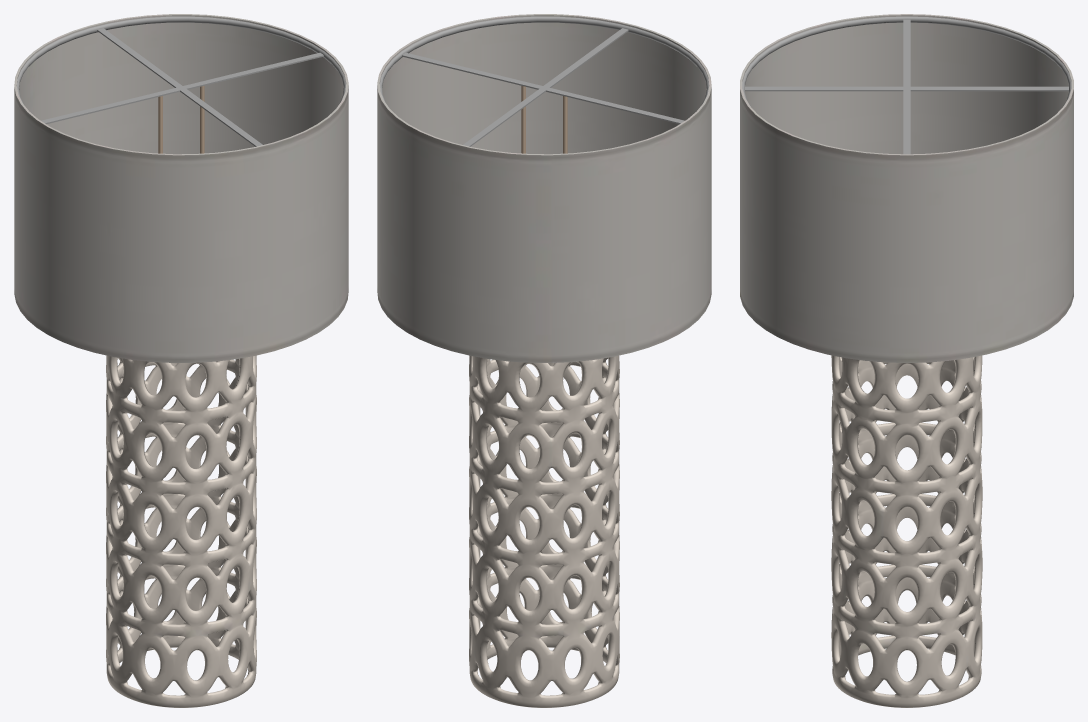
3 renders of one model, left to right at view 1: azimuth 30°, elevation 25°; view 2: azimuth 150°, elevation 25°; view 3: azimuth 270°, elevation 25°, orthographic.
Visible parts, largest first — view 1: RootNode; view 2: RootNode; view 3: RootNode.
Part boxes in pixels (x1=…): RootNode: x1=14, y1=14, x2=348, y2=707; RootNode: x1=377, y1=14, x2=711, y2=707; RootNode: x1=740, y1=14, x2=1073, y2=707.
Size of the model in its own units: 0.325 by 0.6358 by 0.3244.
Materials: 1 (1 with a texture image).
